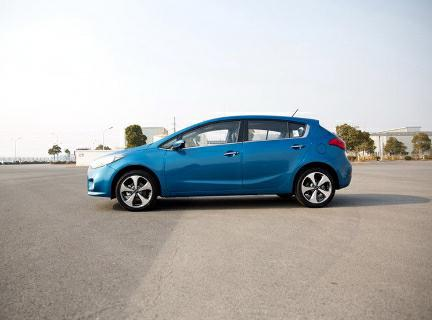起亚-K3S: (86, 110, 360, 215)
